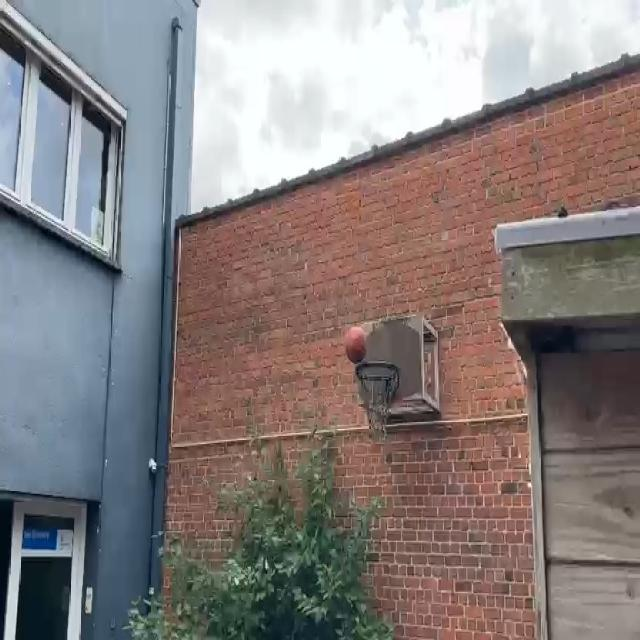rebound_hit: (344, 326, 368, 368)
